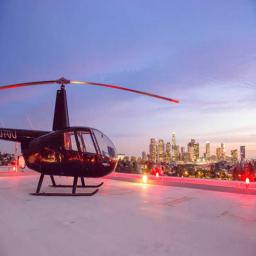helicopter: (1, 77, 181, 198)
